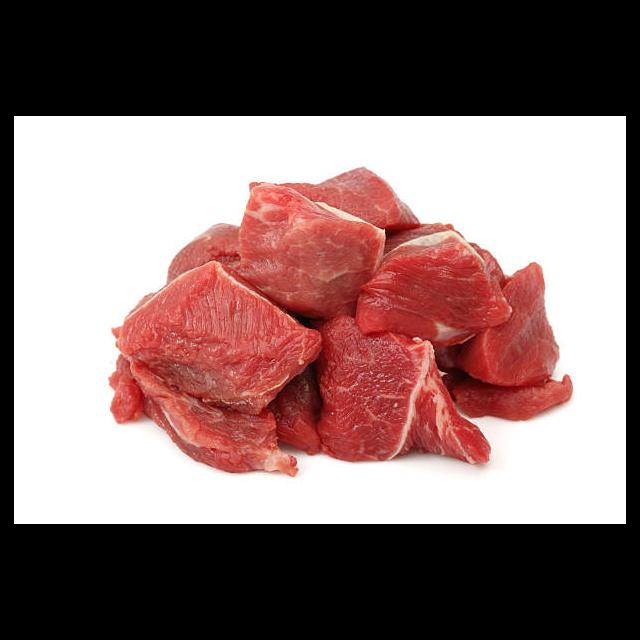beef: (106, 166, 574, 476)
